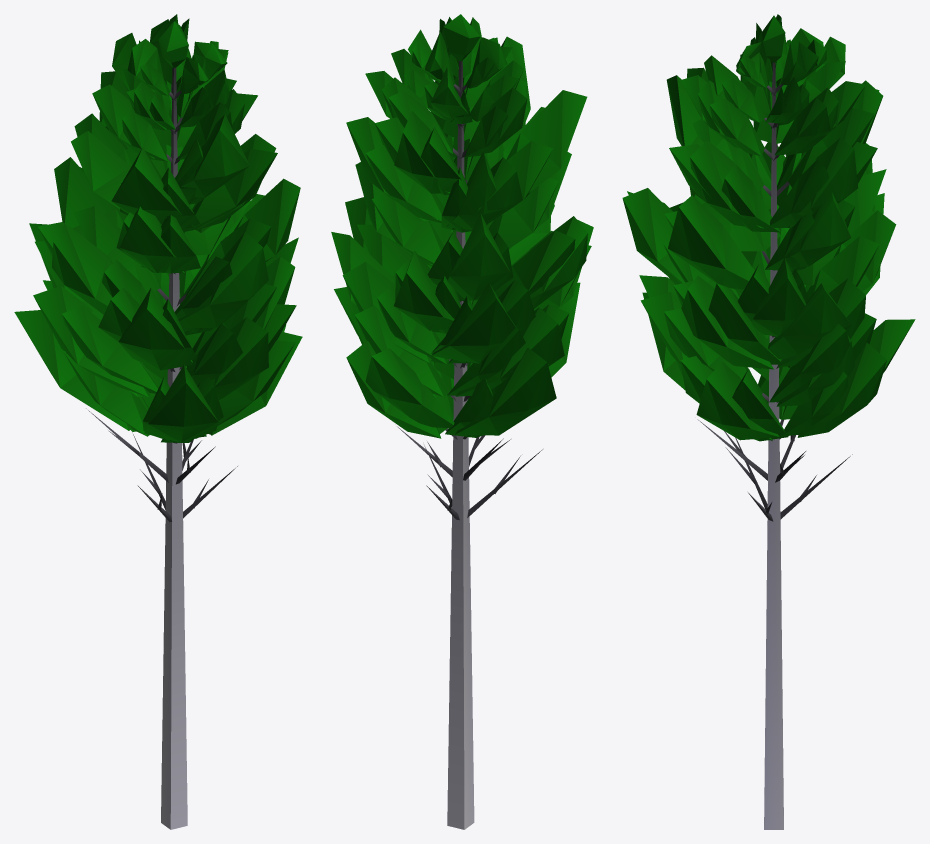
Rendered from birch-lod0.glb.
3 renders of one model, left to right at view 1: azimuth 30°, elevation 25°; view 2: azimuth 150°, elevation 25°; view 3: azimuth 270°, elevation 25°, orthographic.
Visible parts, largest first — view 1: tree; view 2: tree; view 3: tree.
Boxes of the visible parts, left/top/right/bottom form: tree: left=14, top=14, right=302, bottom=829; tree: left=331, top=14, right=593, bottom=829; tree: left=622, top=14, right=915, bottom=829.
Bounding box in the file's own units: 5.47 × 18 × 5.9.
